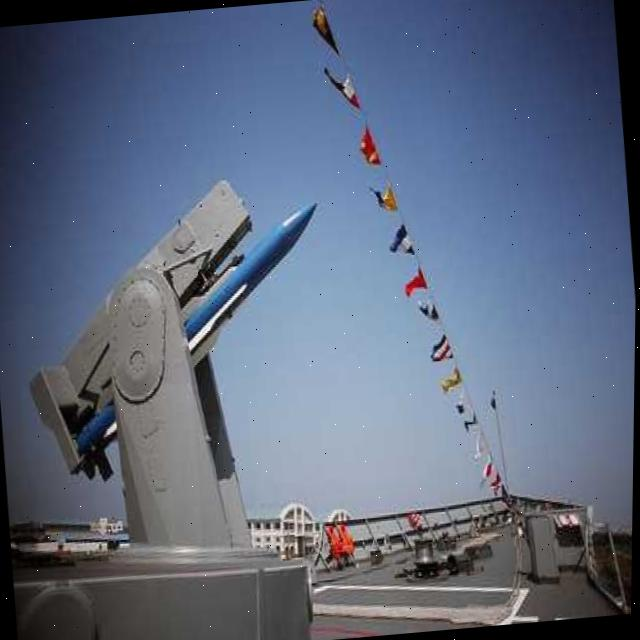missile: (44, 196, 346, 494)
